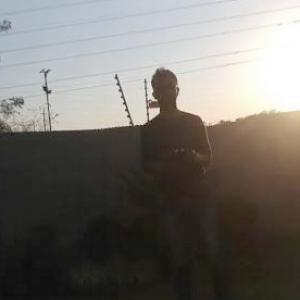follow: (137, 61, 218, 299)
